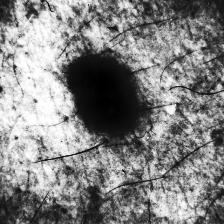Benign Marking or Mole: (69, 58, 135, 134)
